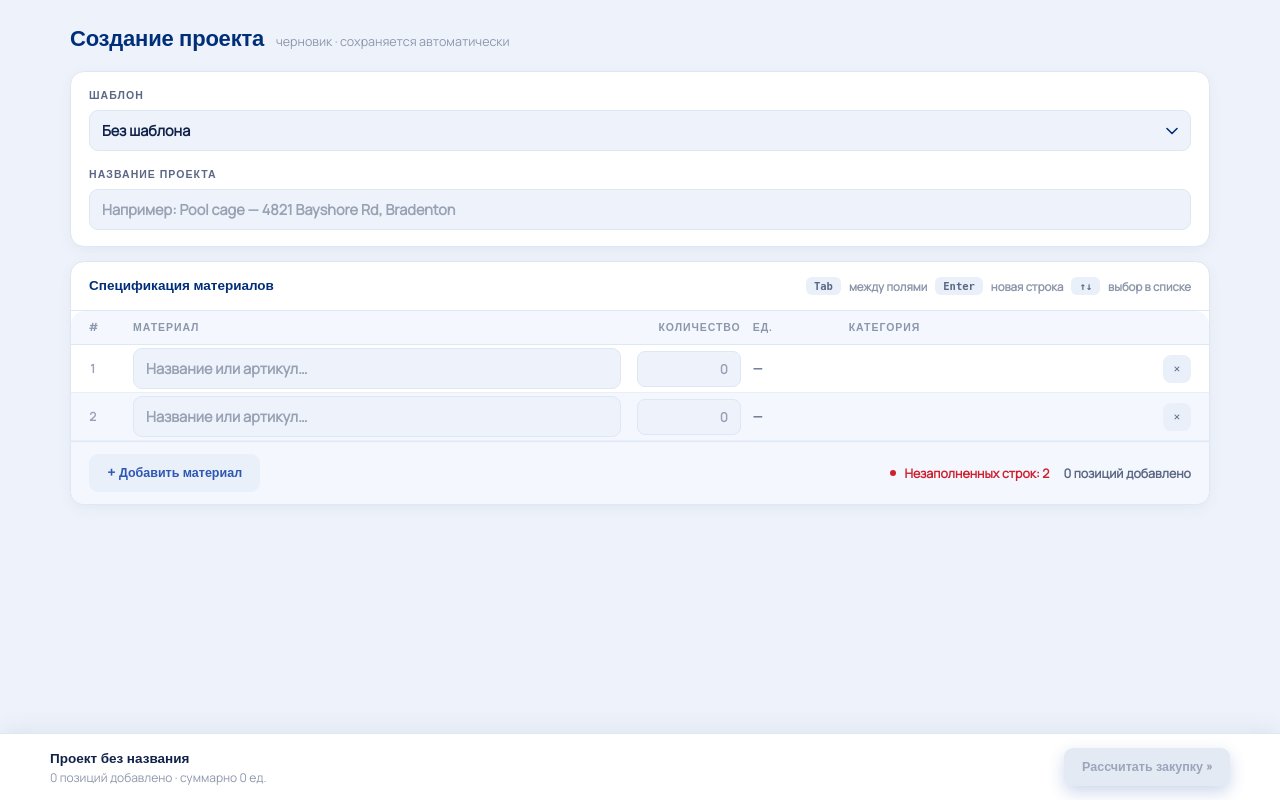
Scenario: ProjectBuilderPage › project templates (ADR-0032 §3) › creates the project with the selected template_id and populates rows with quantity=1
Select "Стандартная дверь" in the dropdown labelled "Шаблон" at [640, 130], box [89,110,1191,151]
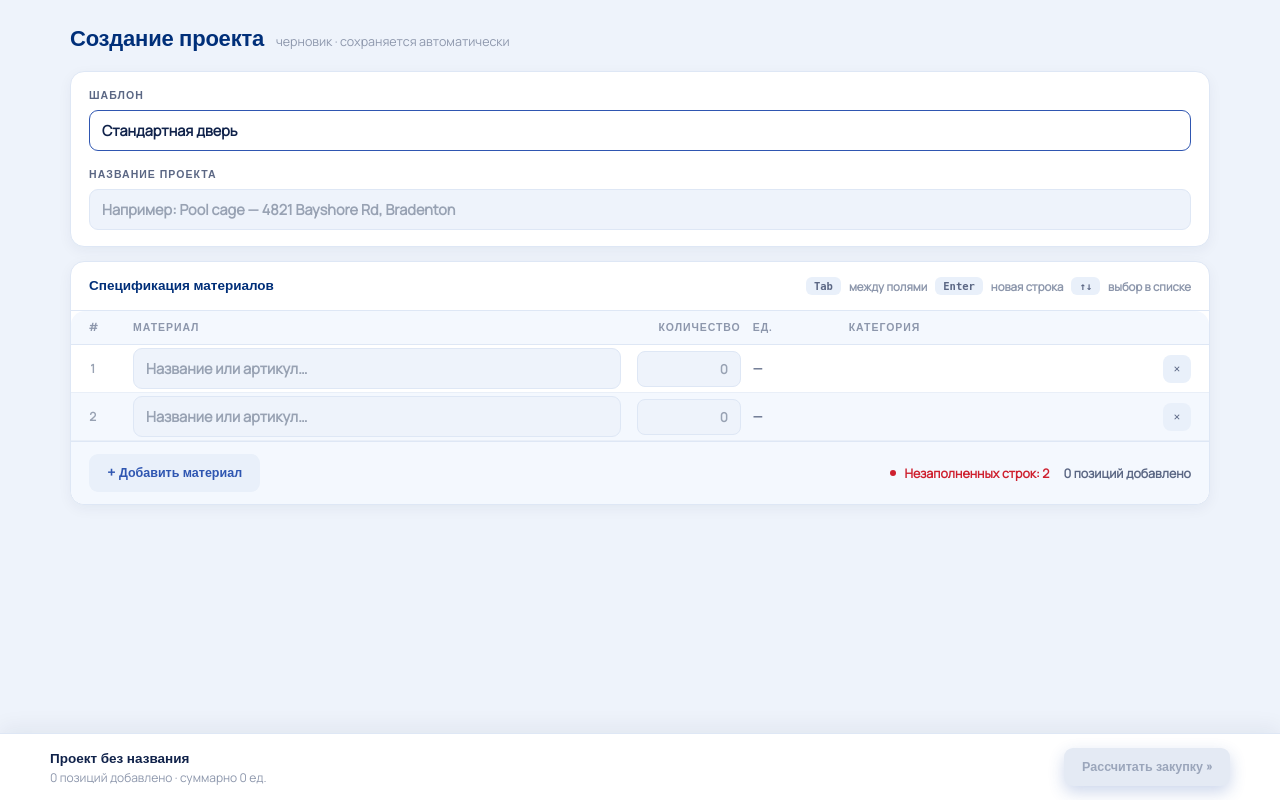
Type "Pool cage" into the field labelled "Название проекта".
click(640, 210); type("Pool cage")  # box [89,189,1191,230]
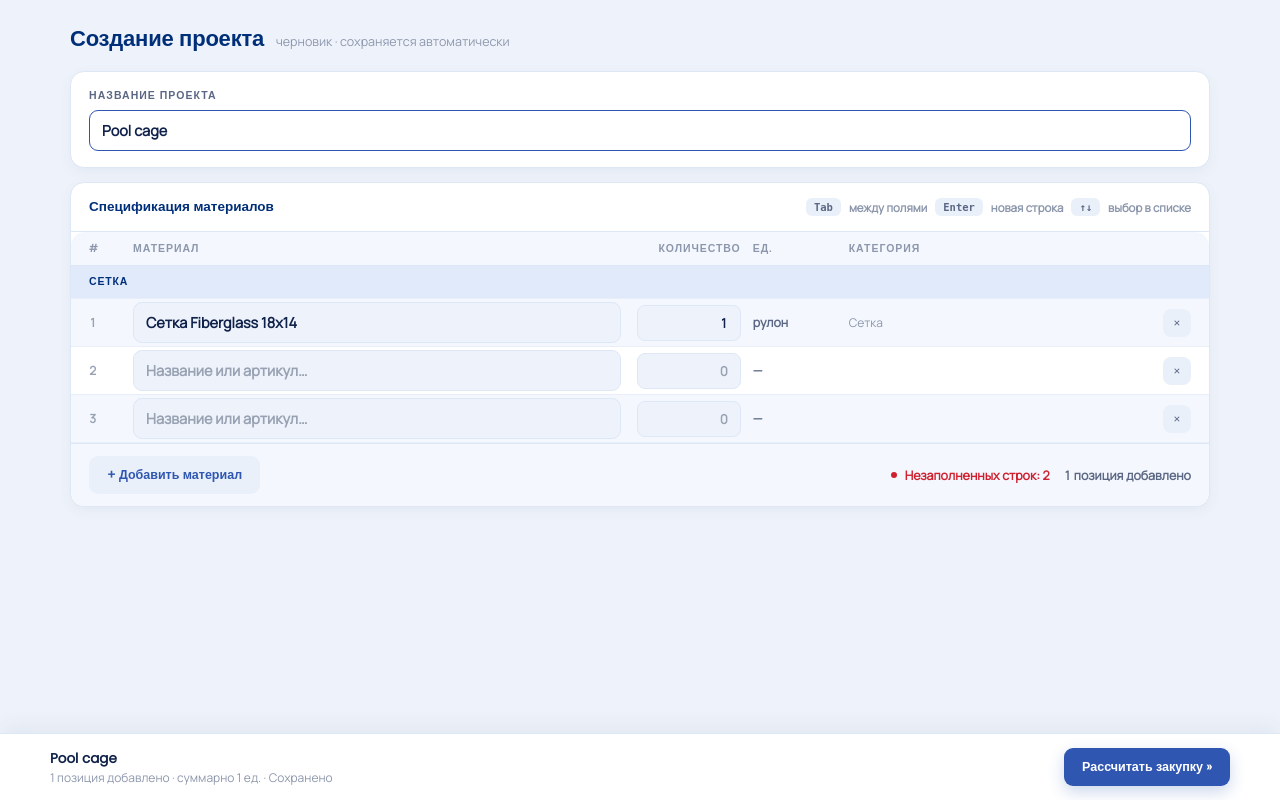
Expected: the number field with placeholder "0" holds "1", [637,304,741,340]
Expected: the dropdown with placeholder "Название или артикул…" holds "Сетка Fiberglass 18x14", [133,302,621,343]
